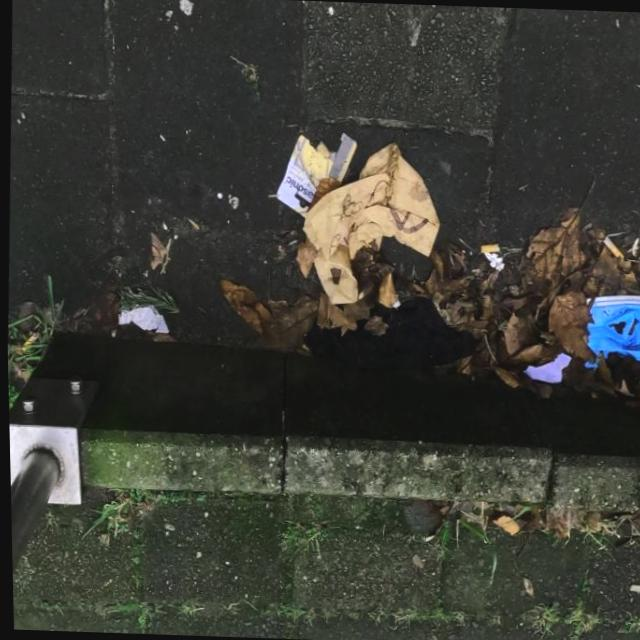Mask: (577, 292, 640, 370)
Paper: (295, 136, 442, 307)
Plastic: (114, 302, 168, 334)
